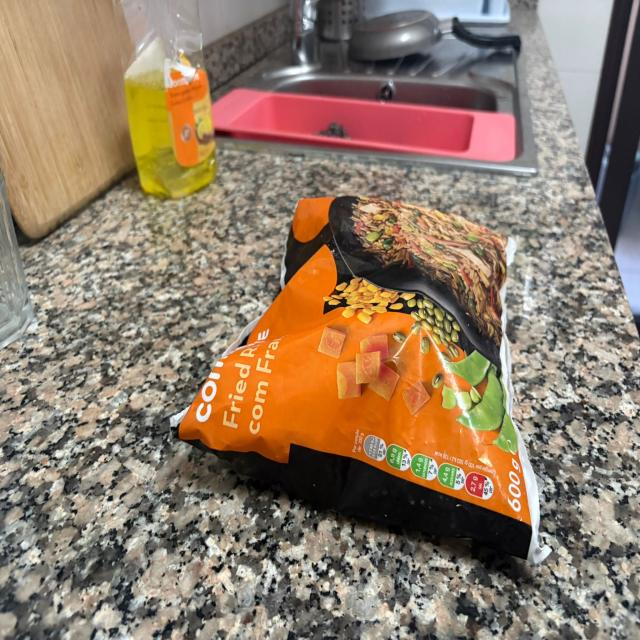good_package: (169, 198, 551, 576)
